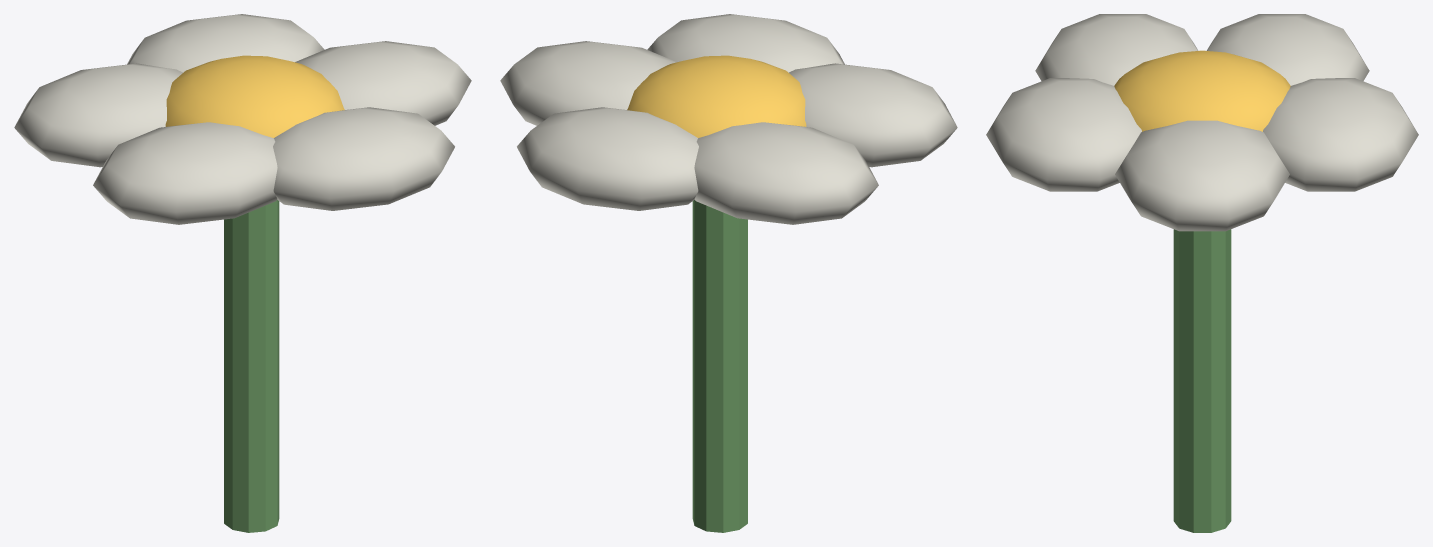
The model's file is flower.glb.
The picture shows the model from 3 angles, left to right: view 1: azimuth 30°, elevation 25°; view 2: azimuth 150°, elevation 25°; view 3: azimuth 270°, elevation 25°; orthographic projection.
Parts seen in each view (by area): view 1: flower; view 2: flower; view 3: flower.
Part boxes in pixels (box(x1,y1,x2,y2)): flower: box(14, 14, 471, 532); flower: box(500, 14, 957, 532); flower: box(986, 14, 1418, 532).
Bounding box in the file's own units: 0.2869 × 0.315 × 0.2717.
